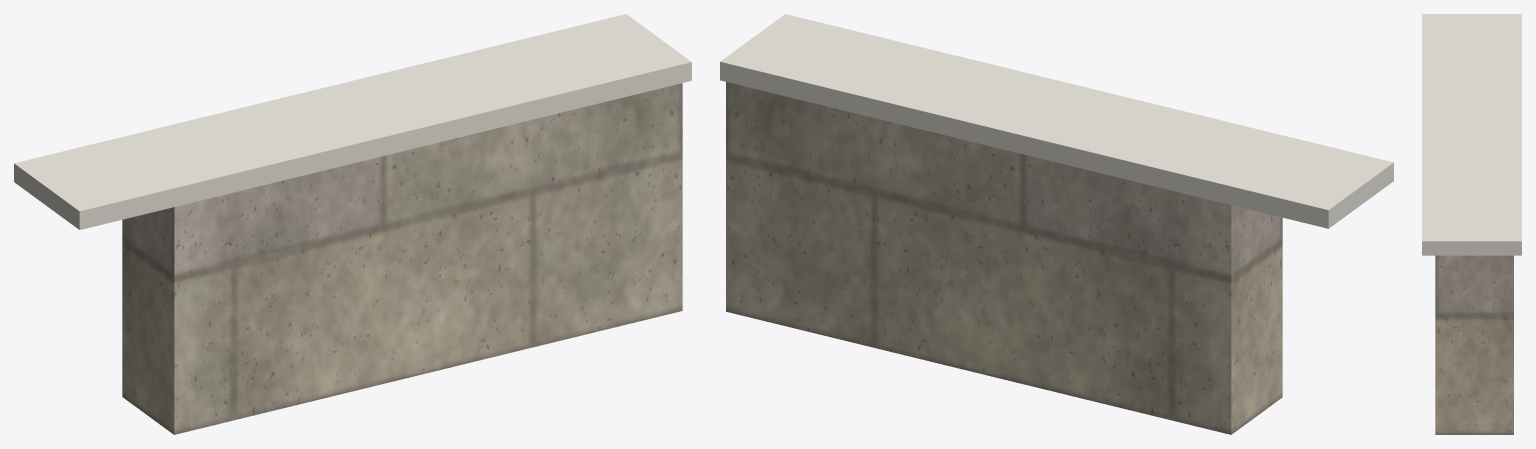
Rendered from parapet_side_b_lo.glb.
3 views of the same model, side by side, from view 1: azimuth 30°, elevation 25°; view 2: azimuth 150°, elevation 25°; view 3: azimuth 270°, elevation 25° (orthographic). The views are drawn at different scales.
Visible parts, largest first — view 1: parapet_side_b_lo_grey, parapet_side_b_lo_lime; view 2: parapet_side_b_lo_grey, parapet_side_b_lo_lime; view 3: parapet_side_b_lo_lime, parapet_side_b_lo_grey.
Boxes of the visible parts, x1,y1,x2,y2 form: parapet_side_b_lo_grey: [122, 83, 682, 434]; parapet_side_b_lo_lime: [14, 14, 691, 229]; parapet_side_b_lo_grey: [726, 82, 1282, 434]; parapet_side_b_lo_lime: [720, 14, 1393, 228]; parapet_side_b_lo_lime: [1422, 14, 1521, 255]; parapet_side_b_lo_grey: [1435, 255, 1513, 434].
Bounding box in the file's own units: 2.05 × 0.815 × 0.38.
Materials: 2 (1 with a texture image).
